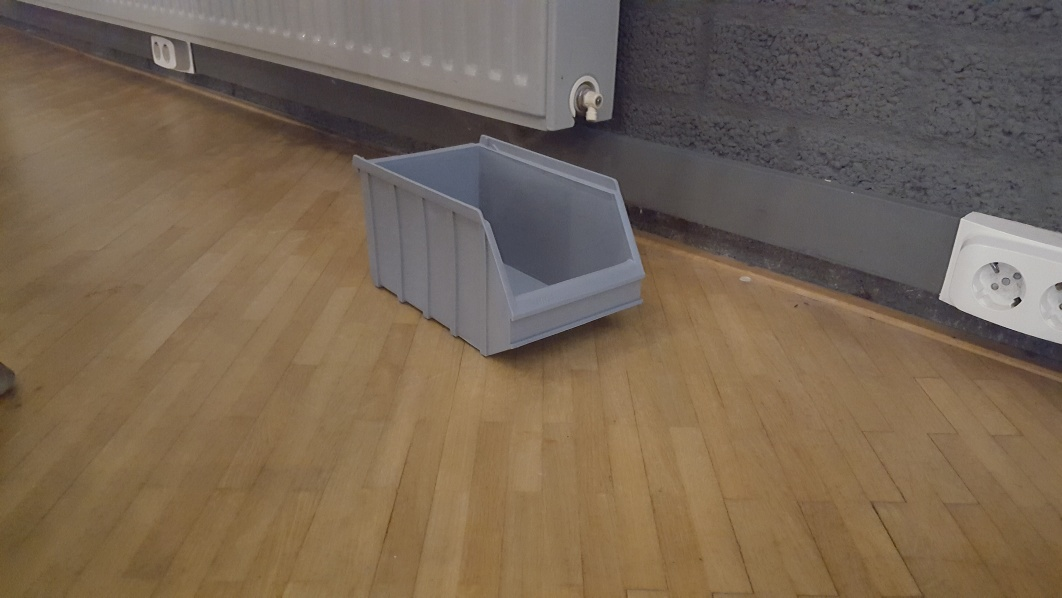tray: (349, 131, 648, 361)
